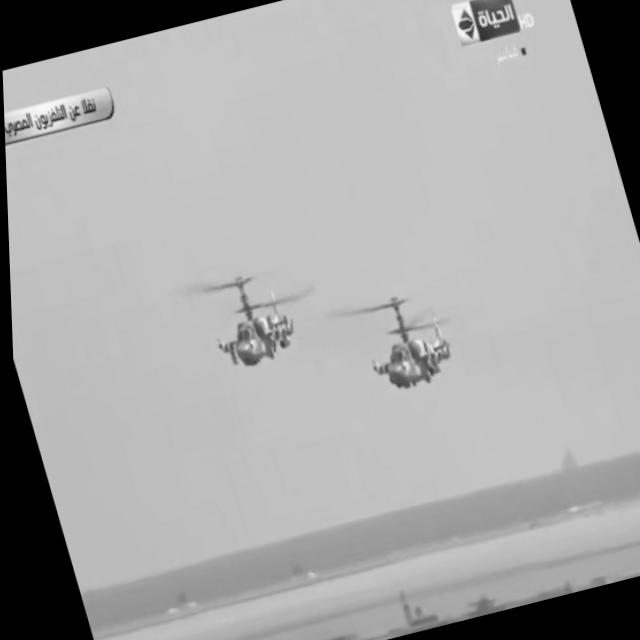helikopter: (341, 275, 477, 424), (185, 251, 314, 398)
